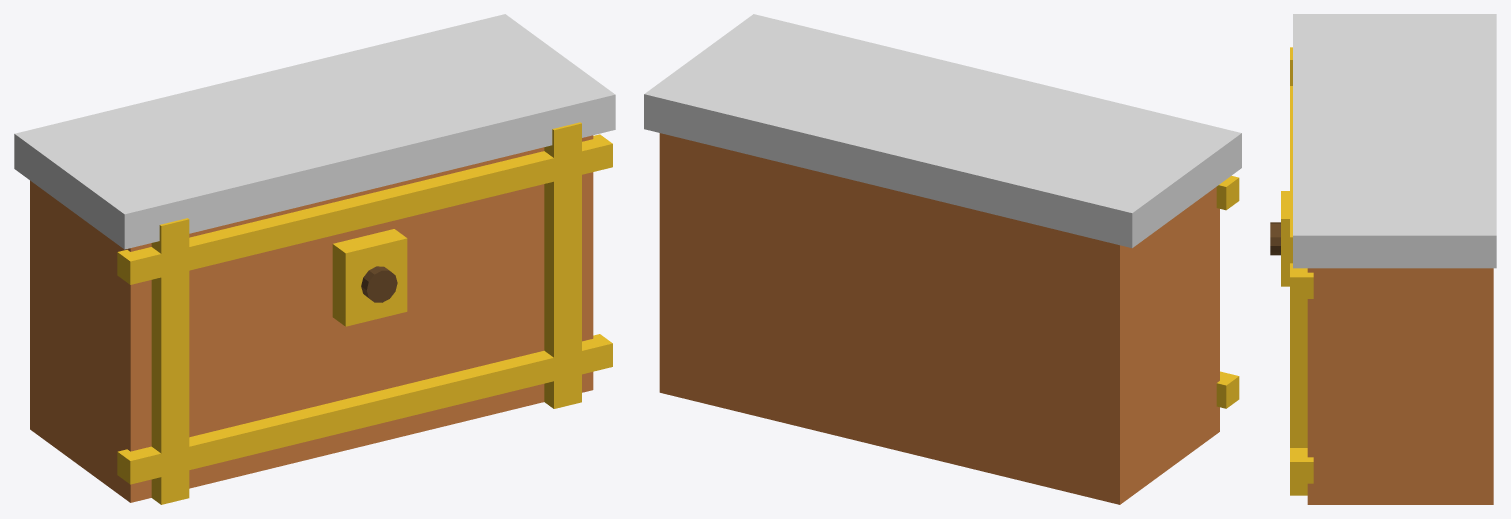
File: cofrePequeñoCerrado.fbx
3 renders of one model, left to right at view 1: azimuth 30°, elevation 25°; view 2: azimuth 150°, elevation 25°; view 3: azimuth 270°, elevation 25°, orthographic. The views are drawn at different scales.
Parts seen in each view (by area): view 1: Cofre_Pequeno_Cerrado; view 2: Cofre_Pequeno_Cerrado; view 3: Cofre_Pequeno_Cerrado.
Part boxes in pixels (x1,y1,x2,y2): Cofre_Pequeno_Cerrado: [14, 14, 615, 504]; Cofre_Pequeno_Cerrado: [644, 14, 1241, 504]; Cofre_Pequeno_Cerrado: [1270, 14, 1496, 504].
Bounding box in the file's own units: 175 × 102 × 75.5.
